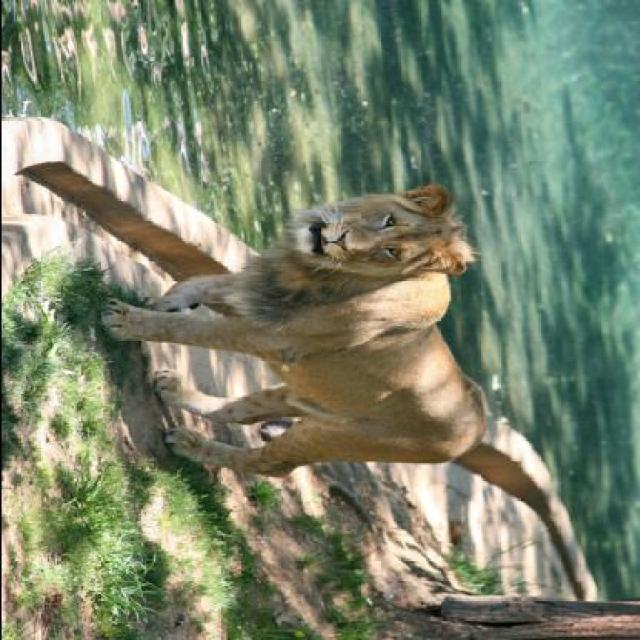Lion: (72, 177, 508, 488)
